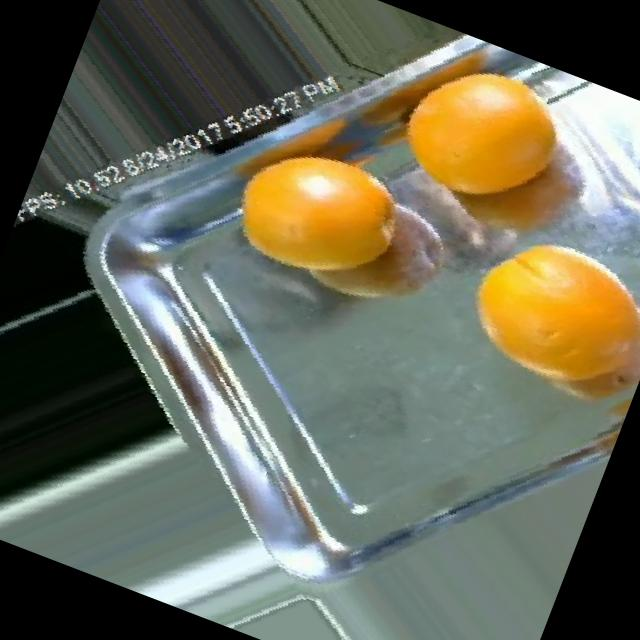Fruit: (247, 111, 505, 355), (424, 184, 640, 434)
